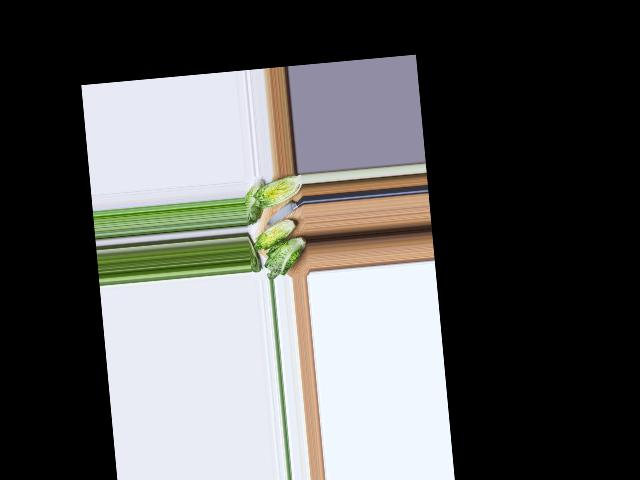lettuce: (245, 179, 267, 224)
